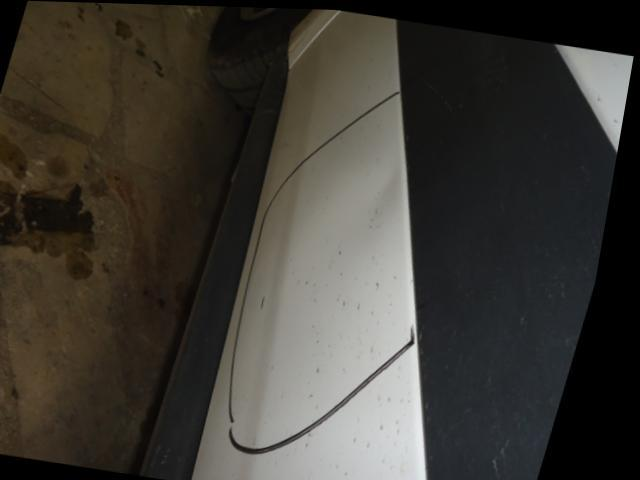scratch: (379, 341, 390, 353), (396, 296, 409, 306), (382, 279, 391, 290), (322, 322, 329, 334), (364, 300, 373, 309), (376, 250, 384, 260), (270, 295, 276, 308), (344, 290, 351, 301), (320, 295, 328, 304), (354, 366, 362, 375), (395, 290, 403, 299), (386, 318, 394, 326), (345, 248, 354, 255), (380, 203, 387, 212), (375, 219, 382, 228), (350, 297, 357, 305), (280, 361, 287, 369), (402, 317, 409, 325), (328, 365, 333, 373), (306, 277, 311, 282), (376, 215, 380, 220), (403, 272, 406, 278), (326, 340, 330, 344), (382, 308, 385, 312), (280, 332, 283, 336), (315, 279, 318, 282)
